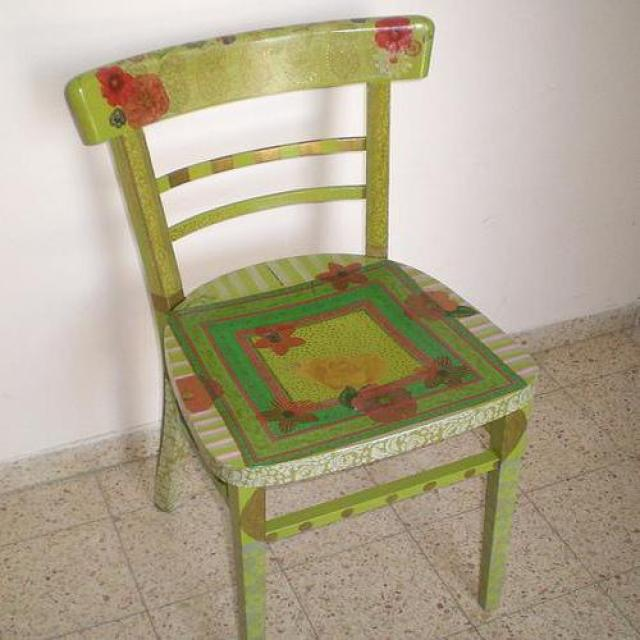chair: (64, 15, 539, 640)
